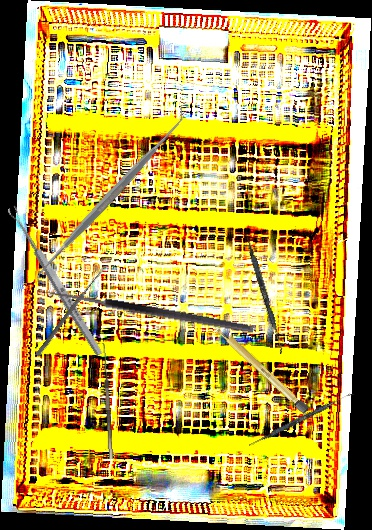Hook Surgical: (42, 286, 255, 345), (96, 342, 114, 460)
Scalpel Handle: (211, 322, 311, 415)
Spatula Surgical: (22, 103, 199, 289), (248, 388, 355, 450), (240, 230, 288, 355)
Surgical Spoon: (6, 204, 105, 358), (35, 265, 106, 358)
